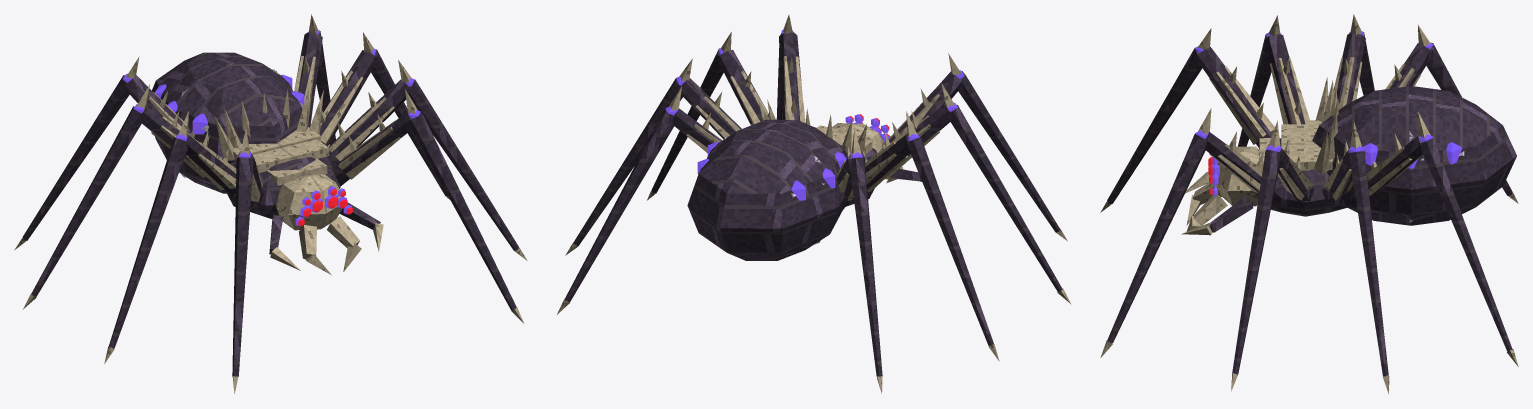
File: spider_king.glb
The picture shows the model from 3 angles, left to right: view 1: azimuth 30°, elevation 25°; view 2: azimuth 150°, elevation 25°; view 3: azimuth 270°, elevation 25°; orthographic projection. The views are drawn at different scales.
Visible parts, largest first — view 1: body, R1, R2, L2, L3, L1, L4, R3, R4; view 2: body, L3, R4, L2, R3, L4, L1, R2, R1; view 3: body, L1, R1, R4, R2, R3, L2, L3, L4.
Part boxes in pixels (x1,y1,x2,y2): body: [152, 52, 383, 275]; R1: [332, 89, 523, 323]; R2: [327, 59, 527, 260]; L2: [104, 110, 236, 363]; L3: [23, 84, 209, 309]; L1: [232, 128, 263, 393]; L4: [14, 56, 207, 250]; R3: [320, 32, 449, 199]; R4: [294, 14, 335, 144]; body: [687, 97, 921, 260]; L3: [851, 111, 999, 361]; R4: [557, 86, 722, 314]; L2: [871, 83, 1071, 304]; R3: [565, 58, 752, 255]; L4: [836, 128, 882, 393]; L1: [879, 53, 1067, 241]; R2: [647, 32, 769, 200]; R1: [776, 15, 805, 123]; body: [1181, 77, 1516, 235]; L1: [1100, 28, 1279, 212]; R1: [1100, 108, 1285, 357]; R4: [1349, 111, 1518, 366]; R2: [1231, 120, 1314, 391]; R3: [1322, 121, 1389, 393]; L2: [1238, 15, 1309, 146]; L3: [1333, 14, 1374, 109]; L4: [1385, 25, 1518, 203].
Size of the model in its own units: 9.53 by 4.45 by 7.73.
5 materials, 5 textured.
